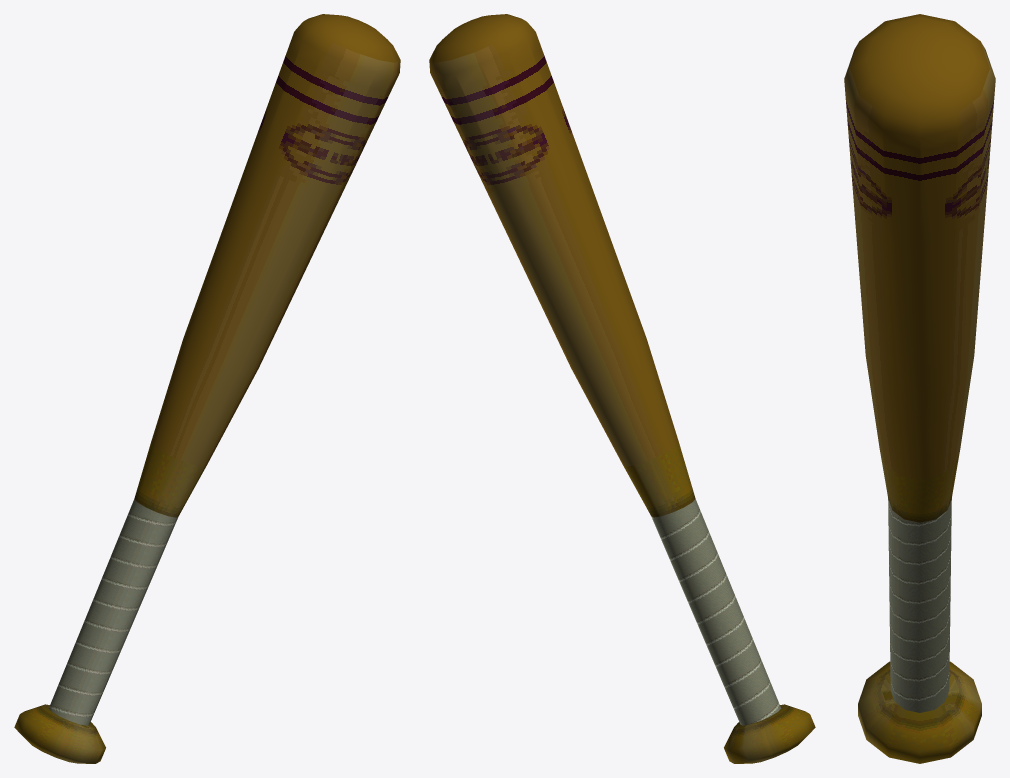
File: Display.obj
The picture shows the model from 3 angles, left to right: view 1: azimuth 30°, elevation 25°; view 2: azimuth 150°, elevation 25°; view 3: azimuth 270°, elevation 25°; orthographic projection. The views are drawn at different scales.
Bounding box in the file's own units: 0.4255 × 0.7381 × 0.1133.
3 materials, 3 textured.
